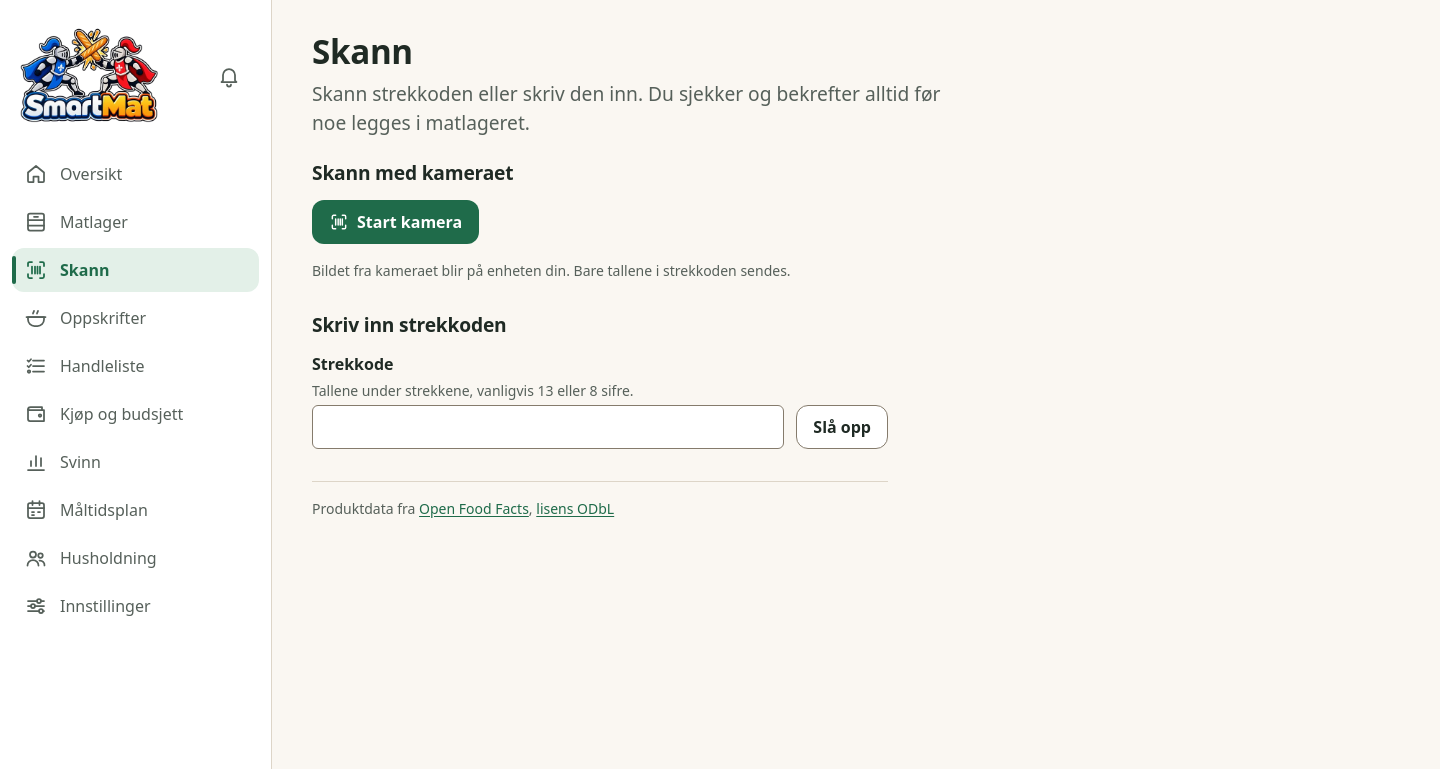
Test: FR-SCAN-003 typing the code › a valid code goes into the URL (normalized) and is looked up
Type "0360 0029 1452" into the field labelled "Strekkode" at (548, 428), box [312, 406, 784, 450]
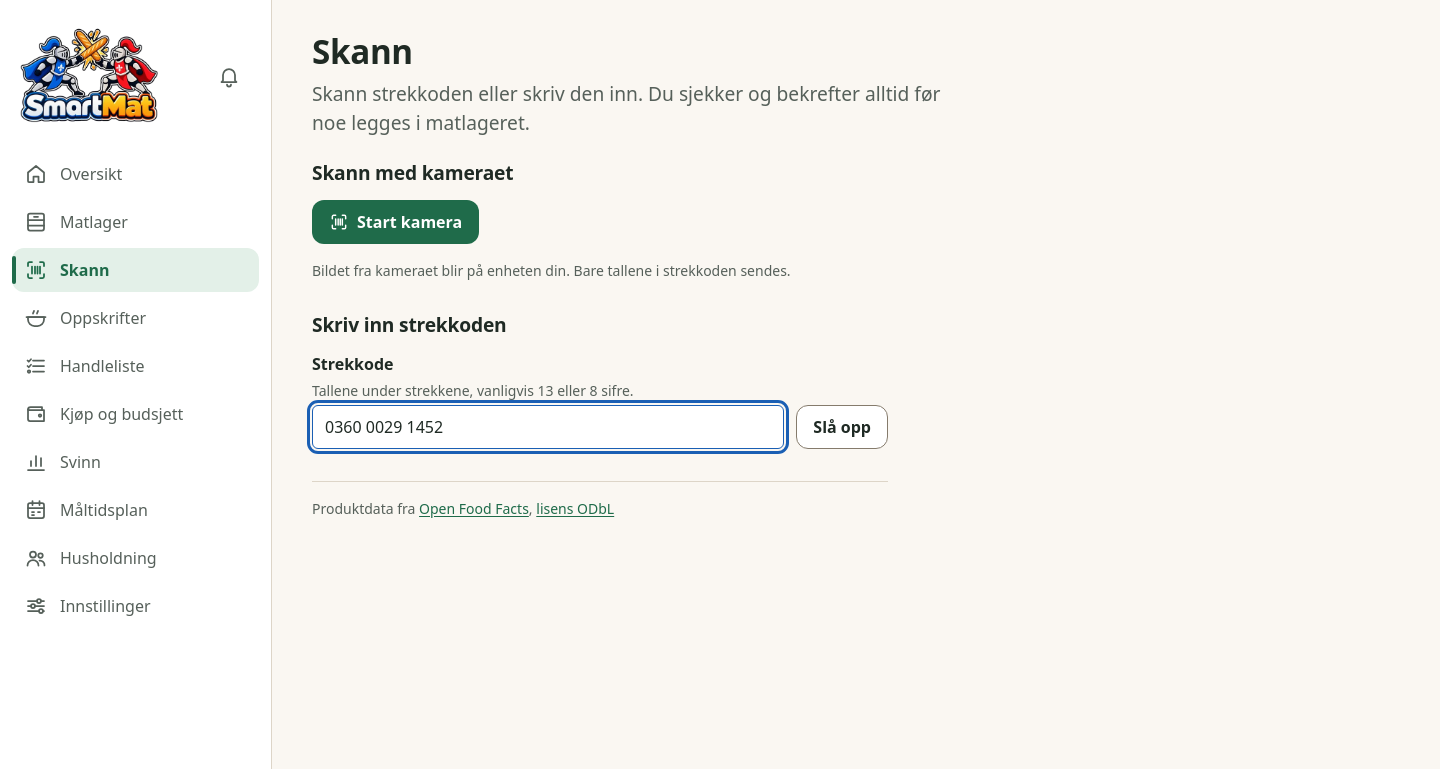
Click the button "Slå opp" at (842, 428), box [796, 406, 888, 450]
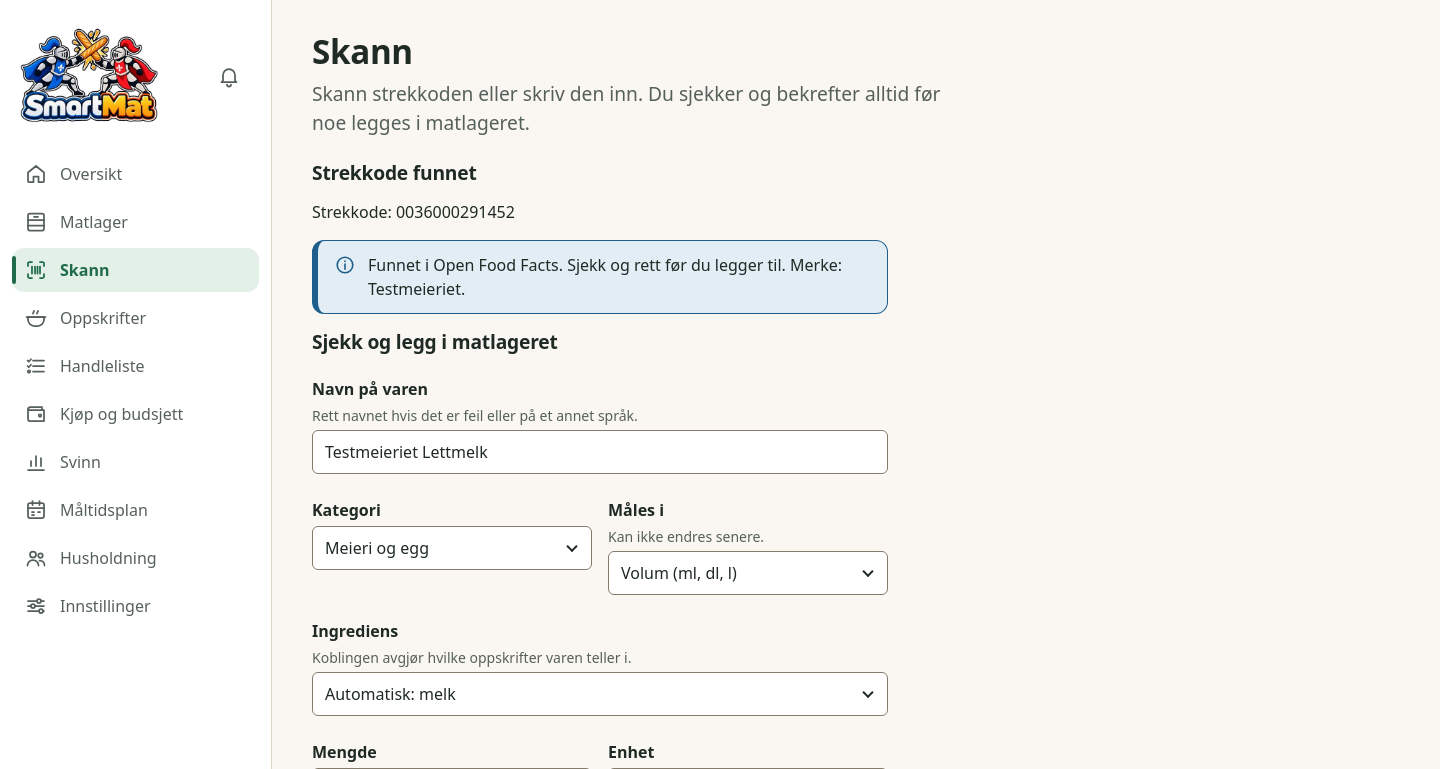
Check: the text "Strekkode: 0036000291452" is shown, box [312, 201, 515, 223]
